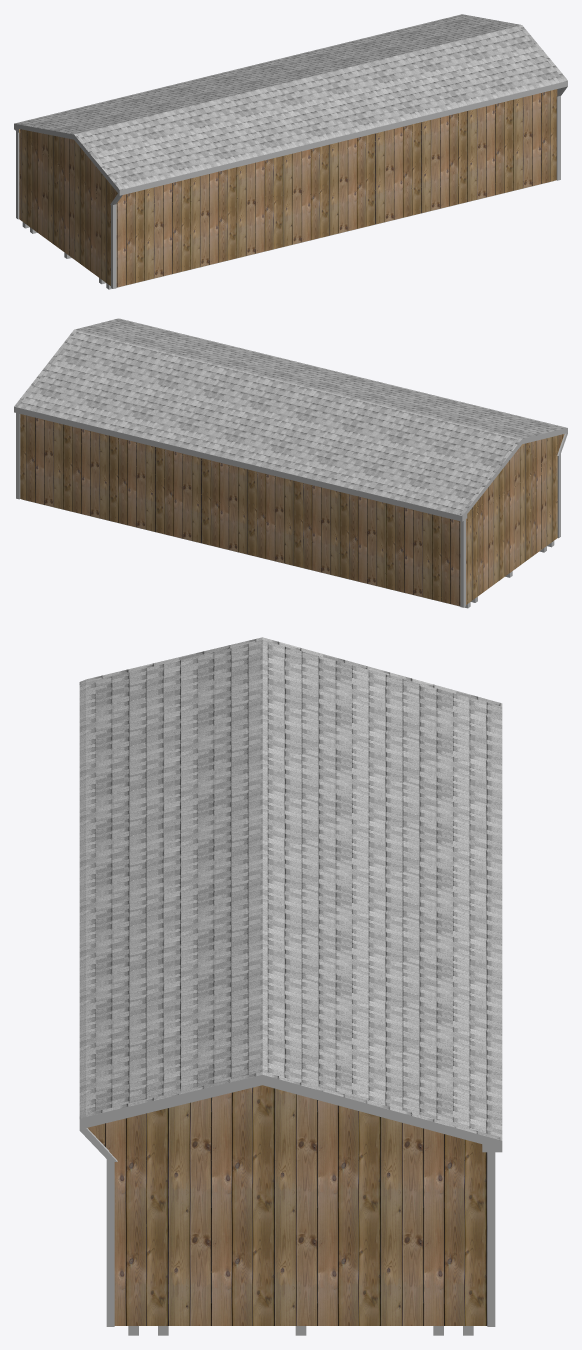
The model's file is Quaker Sheds_12x32.obj.
The picture shows the model from 3 angles, top to bottom: view 1: azimuth 30°, elevation 25°; view 2: azimuth 150°, elevation 25°; view 3: azimuth 270°, elevation 25°; orthographic projection. The views are drawn at different scales.
Parts seen in each view (by area): view 1: Shed, Roof, Sides, Trim, Floor; view 2: Roof, Shed, Sides, Trim, Floor; view 3: Roof, Shed, Sides, Trim.
Part boxes in pixels (bbox=[...]): Shed: bbox=[19, 89, 557, 287]; Roof: bbox=[14, 14, 567, 189]; Sides: bbox=[14, 81, 567, 205]; Trim: bbox=[16, 96, 560, 288]; Floor: bbox=[22, 181, 553, 289]; Roof: bbox=[14, 318, 566, 515]; Shed: bbox=[20, 414, 564, 606]; Sides: bbox=[14, 406, 567, 521]; Trim: bbox=[16, 413, 560, 607]; Floor: bbox=[23, 499, 554, 608]; Roof: bbox=[79, 637, 502, 1140]; Shed: bbox=[87, 1085, 487, 1325]; Sides: bbox=[79, 1075, 502, 1161]; Trim: bbox=[106, 1152, 495, 1326].
Size of the model in its own units: 9.82 by 2.74 by 4.01.
